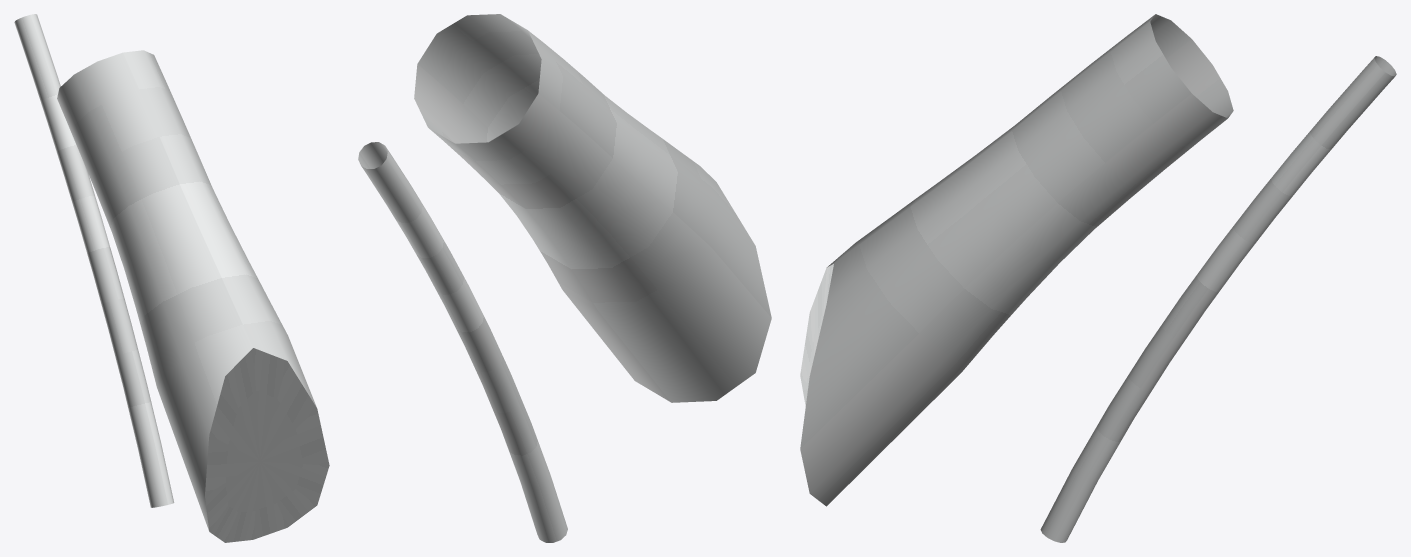
The model's file is luminairearm_laupsweep8ft_c0_thin.obj.
3 views of the same model, side by side, from view 1: azimuth 30°, elevation 25°; view 2: azimuth 150°, elevation 25°; view 3: azimuth 270°, elevation 25° (orthographic). The views are drawn at different scales.
Visible parts, largest first — view 1: luminairearm_laupsweep8ft_c0_thin; view 2: luminairearm_laupsweep8ft_c0_thin; view 3: luminairearm_laupsweep8ft_c0_thin.
Part boxes in pixels (x1,y1,x2,y2): luminairearm_laupsweep8ft_c0_thin: (14, 14, 329, 542); luminairearm_laupsweep8ft_c0_thin: (358, 14, 771, 542); luminairearm_laupsweep8ft_c0_thin: (800, 14, 1396, 542).
Bounding box in the file's own units: 0.3375 × 1.11 × 1.15.
